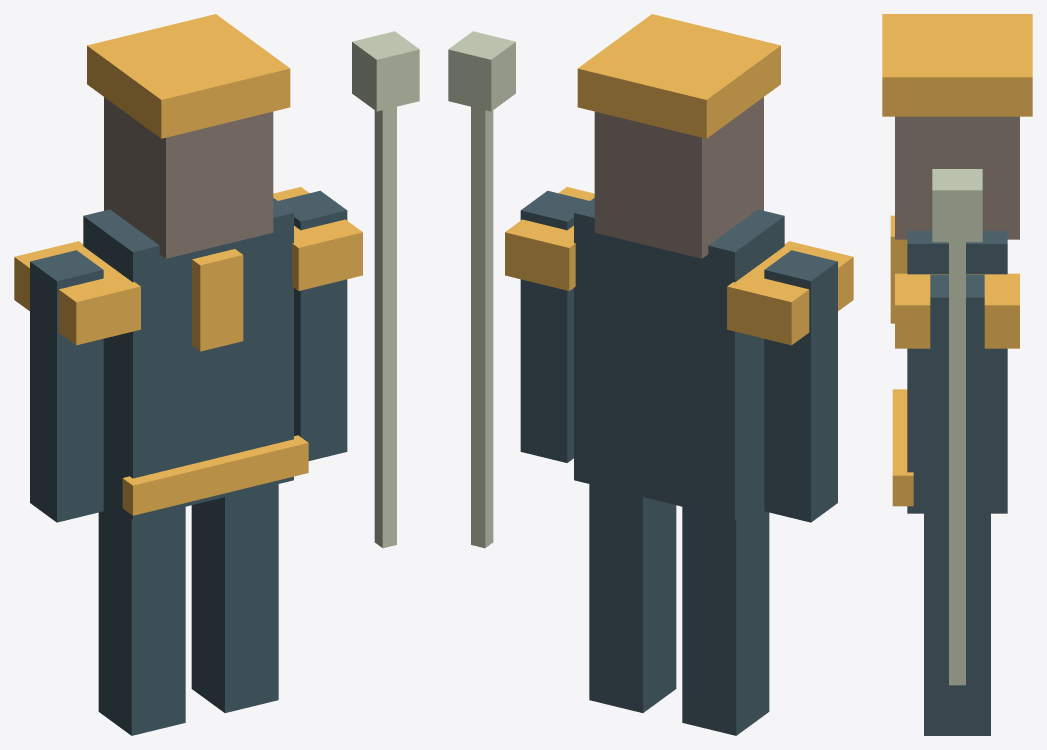
Rendered from 06_rook_nullborne_watcher_near_prototype.glb.
3 views of the same model, side by side, from view 1: azimuth 30°, elevation 25°; view 2: azimuth 150°, elevation 25°; view 3: azimuth 270°, elevation 25° (orthographic).
Visible parts, largest first — view 1: Rook Nullborne, Watcher near Prototype; view 2: Rook Nullborne, Watcher near Prototype; view 3: Rook Nullborne, Watcher near Prototype.
Boxes of the visible parts, x1,y1,x2,y2 form: Rook Nullborne, Watcher near Prototype: (14, 14, 419, 735); Rook Nullborne, Watcher near Prototype: (448, 14, 853, 735); Rook Nullborne, Watcher near Prototype: (882, 14, 1032, 735).
Bounding box in the file's own units: 0.9724 × 1.66 × 0.3449.
